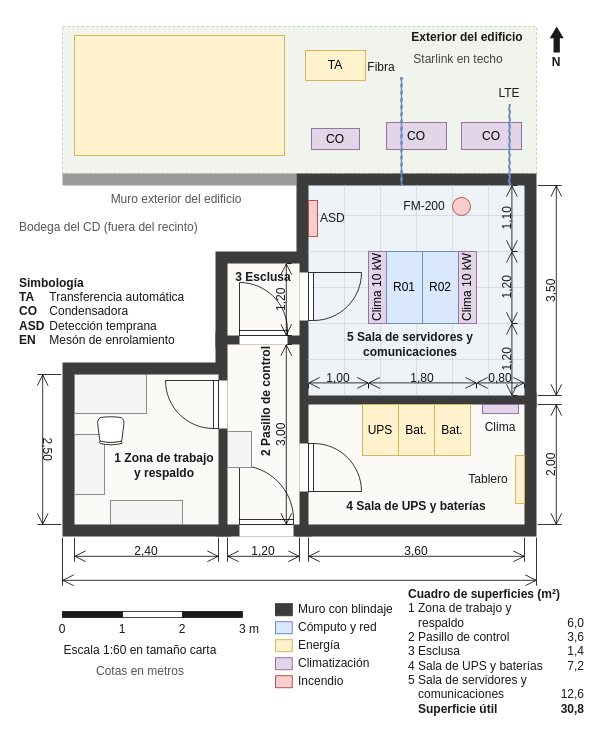
Some shapes in this 602 by 734 pixel diagram are drawn without their labels. The centre of each missing label's shape, as x and y in pixels:
"7,90 exterior" goes at (x=299, y=561).
"Custodia" goes at (x=89, y=464).
"EN" goes at (x=239, y=449).
"Grupo electrógeno de 25 kVA con estanque de 24 h (losa de 3,50 × 2,00 m)" goes at (x=179, y=95).
"Puesto" goes at (x=110, y=394).
"Repuestos" goes at (x=146, y=512).
